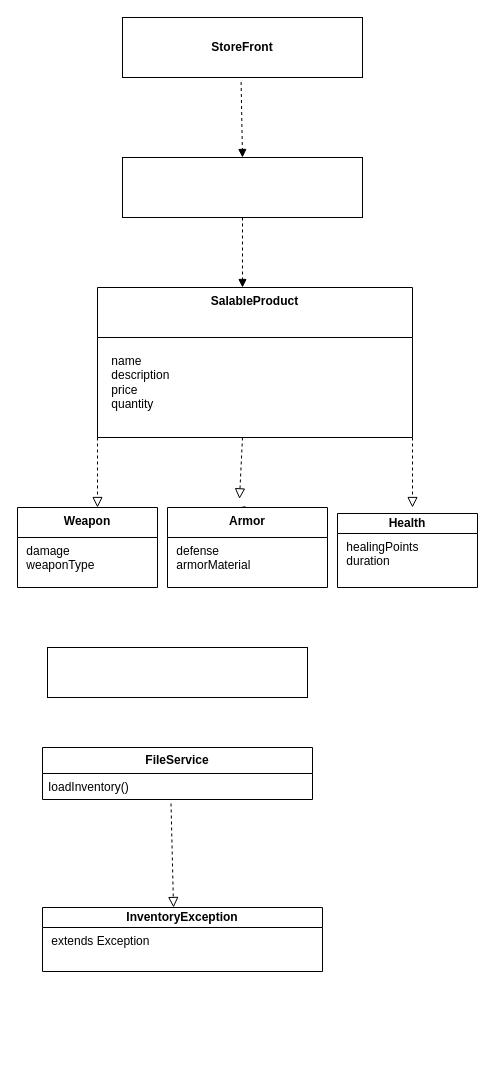
This 495x1073 diagram has some shape labels left out. Each missing label, with the centre of its shape:
InventoryManager: pixel 242 187
ShoppingCart: pixel 177 672
